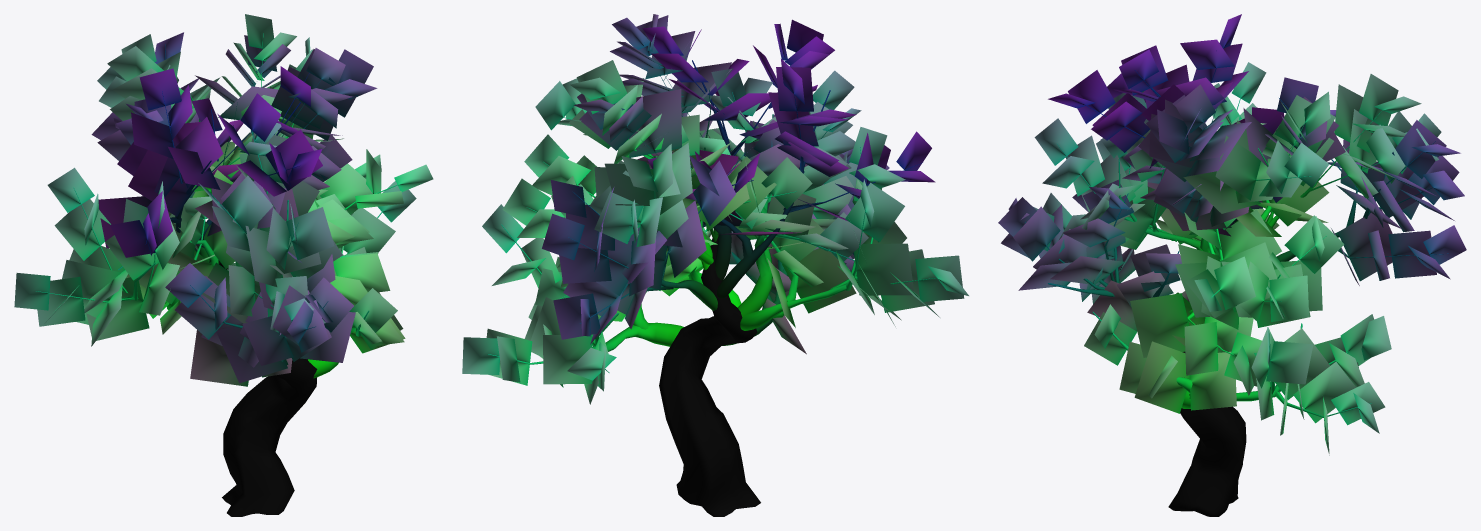
File: SM_DeadTree1.fbx
3 renders of one model, left to right at view 1: azimuth 30°, elevation 25°; view 2: azimuth 150°, elevation 25°; view 3: azimuth 270°, elevation 25°, orthographic. The views are drawn at different scales.
Parts seen in each view (by area): view 1: SM_DeadTree1; view 2: SM_DeadTree1; view 3: SM_DeadTree1.
Boxes of the visible parts, left/top/right/bottom form: SM_DeadTree1: left=14, top=14, right=433, bottom=516; SM_DeadTree1: left=462, top=14, right=968, bottom=516; SM_DeadTree1: left=998, top=14, right=1466, bottom=516.
Size of the model in its own units: 646 by 635 by 600.
